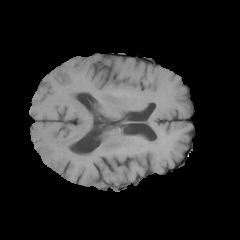glioma: (78, 136, 164, 163)
